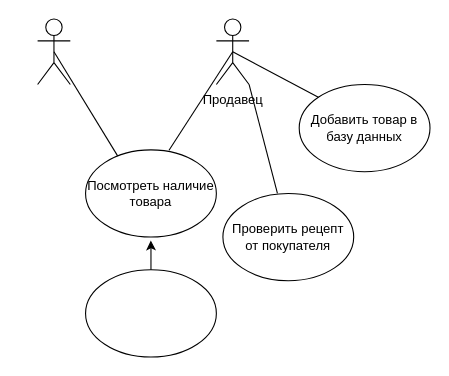
Some shapes in this 449 by 376 pixel diagram are drawn without their labels. Here are the shapes that lost their labels. From the top down, the box of each, then its label:
(37, 18, 70, 84): Покупатель
(84, 269, 216, 357): Узнать необходимость рецепта для получения товара
